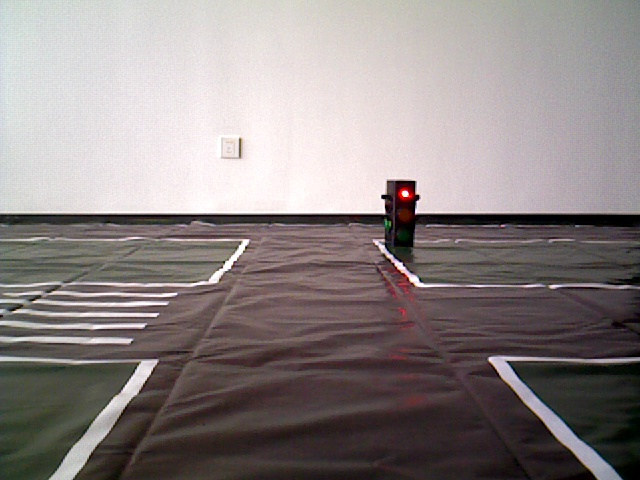red: (383, 180, 415, 244)
